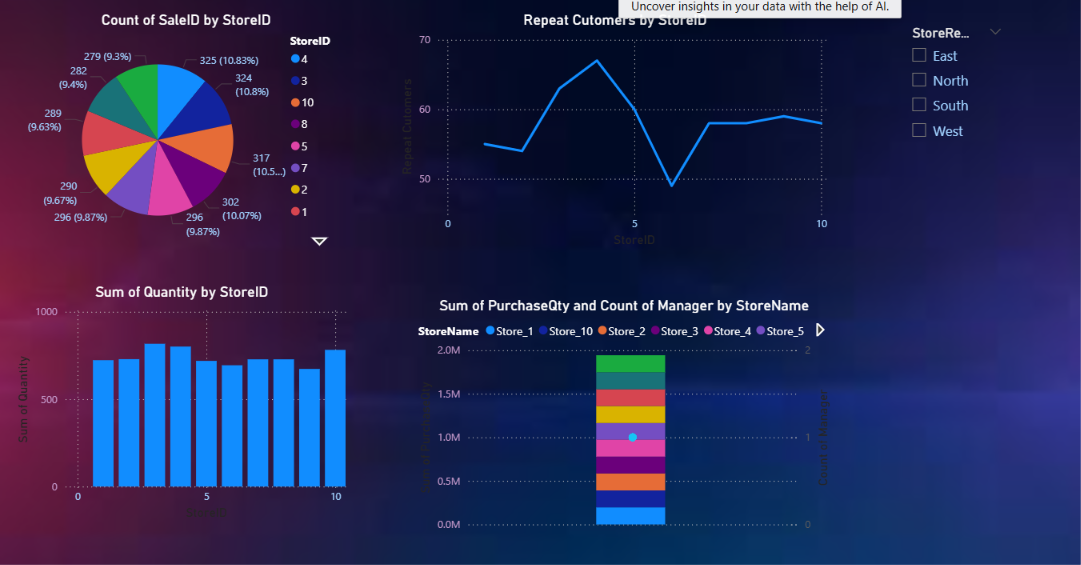

The dashboard page shown, as its layout file describes it:
{"tool":"powerbi","page":{"name":"Store Performance","canvas":[1280,720],"ordinal":1},"visuals":[{"type":"pieChart","fields":{"Category":["Sales_Fact.StoreID"],"Y":["CountNonNull(Sales_Fact.SaleID)"]},"box":[30.2,29.1,383.7,280.2],"z":0},{"type":"clusteredColumnChart","fields":{"Category":["Sales_Fact.StoreID"],"Y":["Sum(Sales_Fact.Quantity)"]},"box":[19.8,345.3,394.2,280.2],"z":1000},{"type":"lineChart","fields":{"Category":["Store_Dim.StoreID"],"Y":["Measures (2).Repeat Cutomers"]},"box":[466.3,29.1,509.3,279.1],"z":2000},{"type":"slicer","fields":{"Values":["Store_Dim.StoreRegion"]},"box":[1053.5,40.7,129.1,155.8],"z":3000},{"type":"lineStackedColumnComboChart","fields":{"Series":["Store_Dim.StoreName"],"Y":["Sum(Inventory_Fact.PurchaseQty)"],"Y2":["CountNonNull(Store_Dim.Manager)"]},"box":[487.2,360.5,488.4,279.1],"z":4000}]}

Visuals, with their boxes on the page's 1280x720 design canvas (x1, y1, x2, y2). These are canvas units, not pixel positions in the 1081x565 screenshot, which may show the page scaled, cropped or inside an application window:
pieChart - Sales_Fact.StoreID x CountNonNull(Sales_Fact.SaleID): (30,29,414,309)
clusteredColumnChart - Sales_Fact.StoreID x Sum(Sales_Fact.Quantity): (20,345,414,626)
lineChart - Store_Dim.StoreID x Measures (2).Repeat Cutomers: (466,29,976,308)
slicer - Store_Dim.StoreRegion: (1054,41,1183,196)
lineStackedColumnComboChart - Store_Dim.StoreName x Sum(Inventory_Fact.PurchaseQty): (487,360,976,640)
